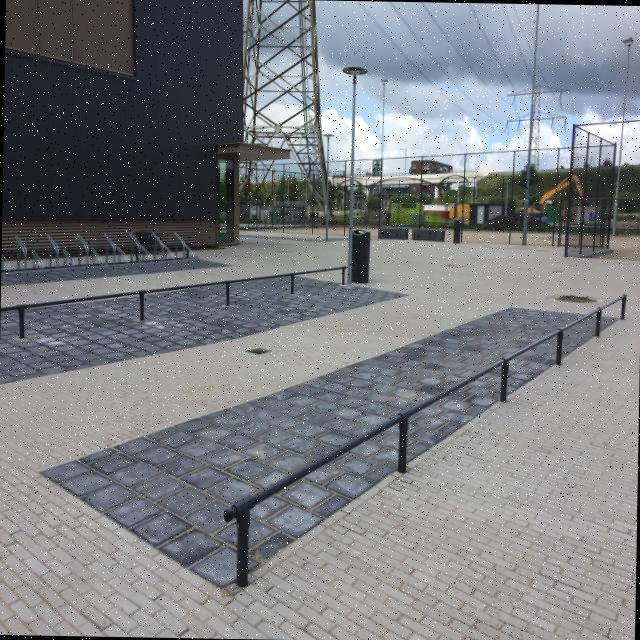fence line: (457, 129, 630, 284), (233, 148, 484, 236)
